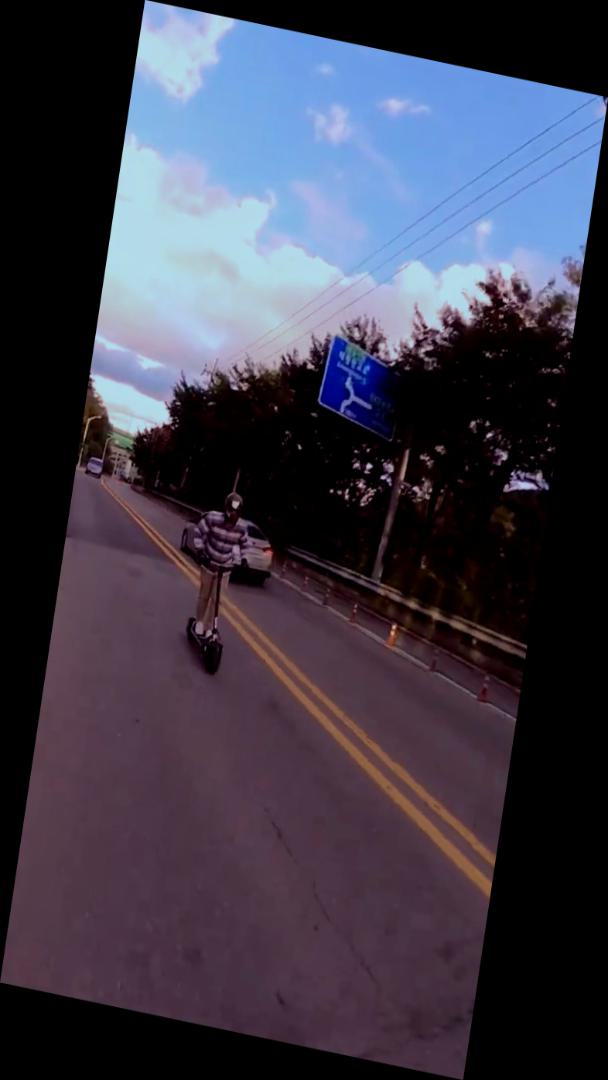helmet: (174, 482, 258, 680)
